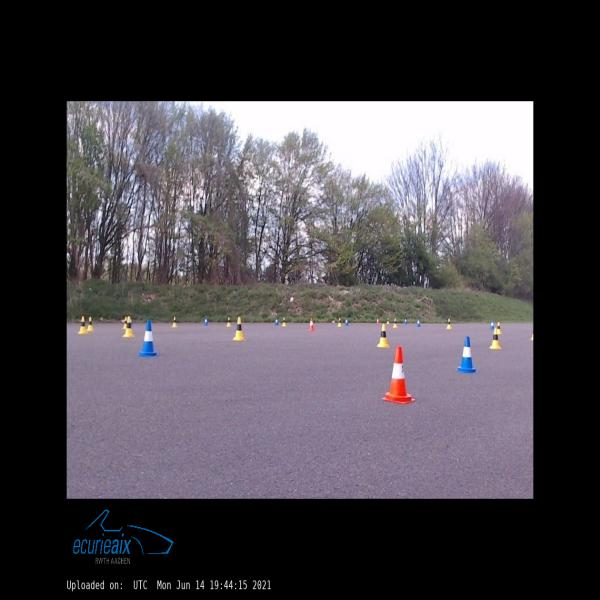blue_cone: (138, 320, 158, 357), (457, 336, 476, 372), (490, 320, 494, 329), (204, 317, 208, 325), (416, 319, 420, 326), (345, 318, 348, 325), (275, 318, 278, 325), (404, 319, 406, 324)
orange_cone: (382, 346, 416, 404), (308, 318, 315, 331), (376, 318, 379, 325)
yellow_cone: (377, 324, 390, 347), (489, 328, 501, 349), (123, 316, 134, 337), (234, 318, 244, 340), (78, 317, 87, 333), (87, 317, 93, 330), (172, 315, 177, 327), (497, 322, 502, 334), (446, 318, 451, 329), (226, 317, 231, 326), (123, 318, 127, 328), (282, 317, 286, 326), (530, 328, 533, 340), (338, 318, 342, 326), (393, 319, 397, 327), (386, 317, 390, 324)
